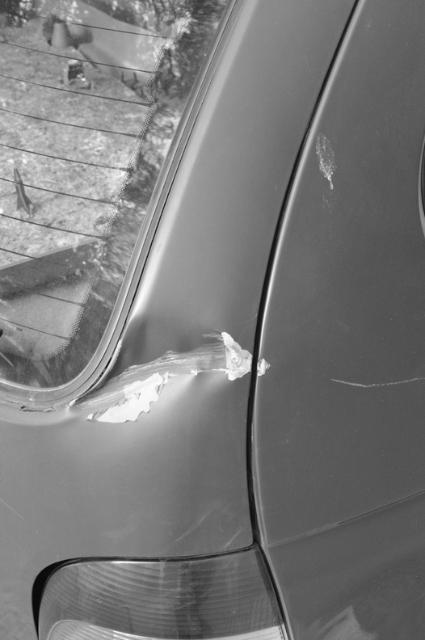Dickey: (85, 275, 267, 472)
